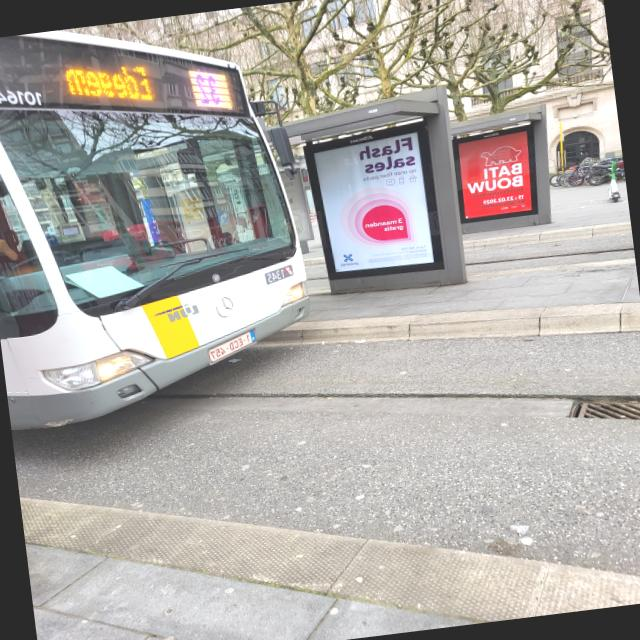bus-number: (192, 68, 225, 110)
